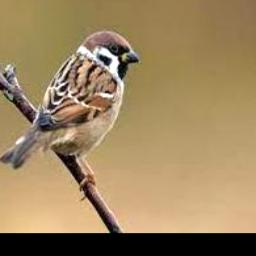Sparrow: (0, 31, 139, 194)
